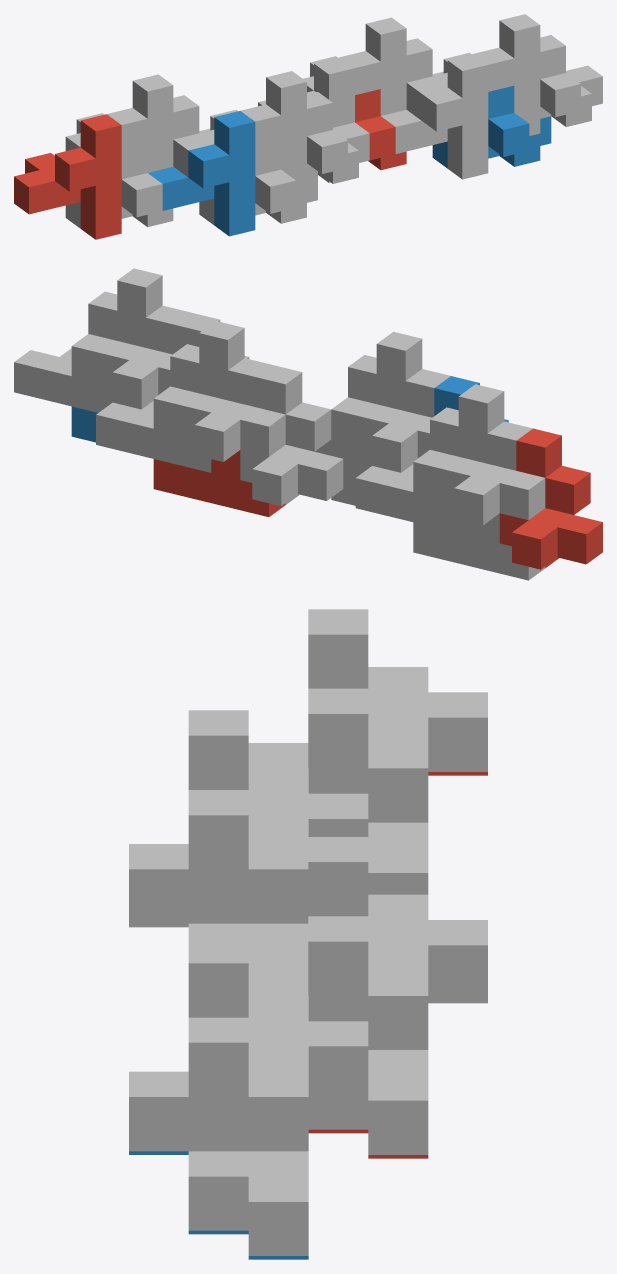
File: tiling.obj
3 renders of one model, top to bottom at view 1: azimuth 30°, elevation 25°; view 2: azimuth 150°, elevation 25°; view 3: azimuth 270°, elevation 25°, orthographic. The views are drawn at different scales.
Parts seen in each view (by area): view 1: copy_1_domain_1, copy_1_domain_6, copy_1_domain_2, copy_1_domain_8, copy_1_domain_4, copy_1_domain_3, copy_1_domain_7, copy_2_domain_8, copy_2_domain_4, copy_2_domain_6, copy_2_domain_2, copy_2_domain_1 (+4 smaller); view 2: copy_1_domain_3, copy_1_domain_7, copy_1_domain_5, copy_1_domain_1, copy_1_domain_4, copy_1_domain_8, copy_2_domain_7, copy_2_domain_3, copy_2_domain_8, copy_2_domain_5, copy_2_domain_1, copy_2_domain_4 (+4 smaller); view 3: copy_2_domain_8, copy_2_domain_4, copy_2_domain_7, copy_2_domain_3, copy_1_domain_8, copy_1_domain_7, copy_1_domain_3, copy_1_domain_4.
Boxes of the visible parts, x1,y1,x2,y2 form: copy_1_domain_1: [14, 114, 121, 239]; copy_1_domain_6: [381, 54, 488, 179]; copy_1_domain_2: [148, 111, 255, 236]; copy_1_domain_8: [433, 14, 540, 135]; copy_1_domain_4: [199, 71, 306, 192]; copy_1_domain_3: [65, 74, 173, 172]; copy_1_domain_7: [303, 17, 406, 115]; copy_2_domain_8: [540, 35, 602, 126]; copy_2_domain_4: [307, 92, 369, 183]; copy_2_domain_6: [432, 85, 551, 168]; copy_2_domain_2: [199, 142, 317, 224]; copy_2_domain_1: [65, 146, 173, 228]; copy_1_domain_3: [442, 384, 545, 525]; copy_1_domain_7: [182, 321, 285, 461]; copy_1_domain_5: [240, 365, 343, 506]; copy_1_domain_1: [499, 428, 602, 569]; copy_1_domain_4: [360, 331, 450, 472]; copy_1_domain_8: [100, 268, 190, 409]; copy_2_domain_7: [96, 344, 211, 472]; copy_2_domain_3: [355, 407, 470, 536]; copy_2_domain_8: [14, 291, 117, 412]; copy_2_domain_5: [153, 450, 285, 516]; copy_2_domain_1: [413, 513, 545, 580]; copy_2_domain_4: [315, 355, 376, 476]; copy_2_domain_8: [129, 1017, 308, 1255]; copy_2_domain_4: [129, 790, 308, 970]; copy_2_domain_7: [248, 916, 428, 1154]; copy_2_domain_3: [248, 688, 428, 894]; copy_1_domain_8: [188, 938, 368, 1100]; copy_1_domain_7: [308, 837, 487, 999]; copy_1_domain_3: [308, 609, 487, 771]; copy_1_domain_4: [188, 710, 368, 843].
Bounding box in the file's own units: 21 × 5 × 6.
